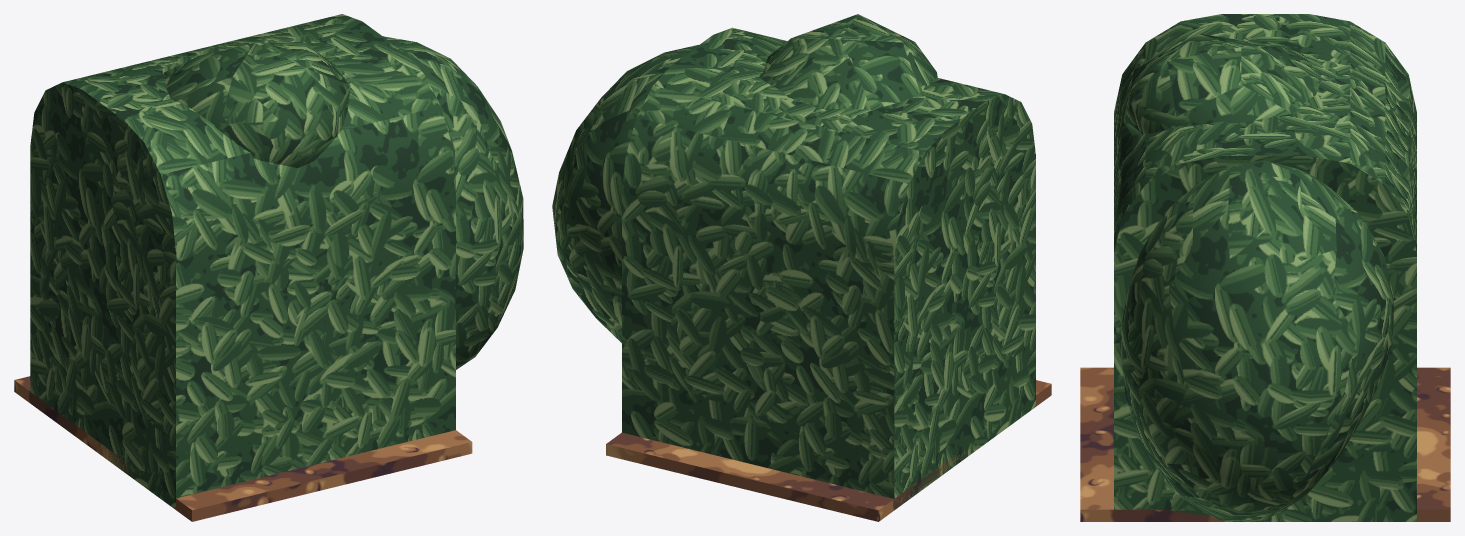
The model's file is hedge_end.glb.
The picture shows the model from 3 angles, left to right: view 1: azimuth 30°, elevation 25°; view 2: azimuth 150°, elevation 25°; view 3: azimuth 270°, elevation 25°; orthographic projection. The views are drawn at different scales.
Visible parts, largest first — view 1: Hedge; view 2: Hedge; view 3: Hedge.
Part boxes in pixels (left/top/right/bottom): Hedge: left=14, top=14, right=523, bottom=521; Hedge: left=552, top=14, right=1051, bottom=521; Hedge: left=1080, top=14, right=1450, bottom=521.
Bounding box in the file's own units: 1.46 × 1.32 × 1.1.
Materials: 2 (2 with a texture image).
